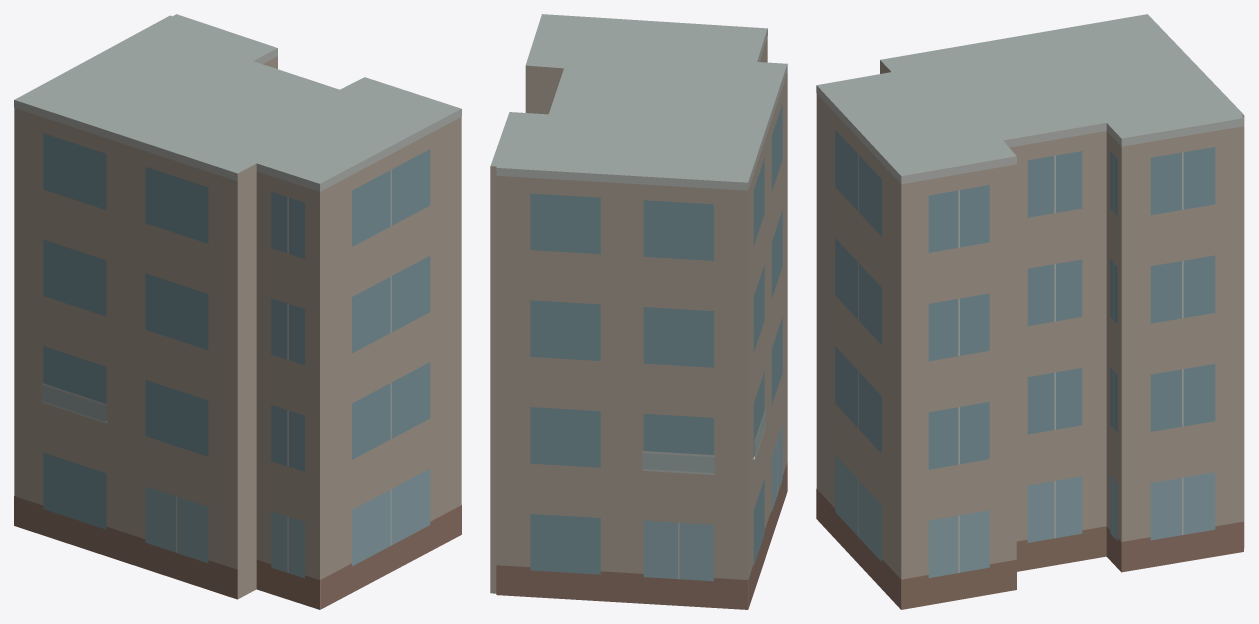
The model's file is survey-upis-32586304.glb.
The picture shows the model from 3 angles, left to right: view 1: azimuth 30°, elevation 25°; view 2: azimuth 150°, elevation 25°; view 3: azimuth 270°, elevation 25°; orthographic projection.
Parts seen in each view (by area): view 1: survey-upis-32586304.tmp; view 2: survey-upis-32586304.tmp; view 3: survey-upis-32586304.tmp.
Boxes of the visible parts, box(x1,y1,x2,y2) form: survey-upis-32586304.tmp: box(14, 14, 461, 609); survey-upis-32586304.tmp: box(490, 14, 787, 609); survey-upis-32586304.tmp: box(816, 14, 1244, 609).
Bounding box in the file's own units: 10.52 × 13.1 × 11.73.
